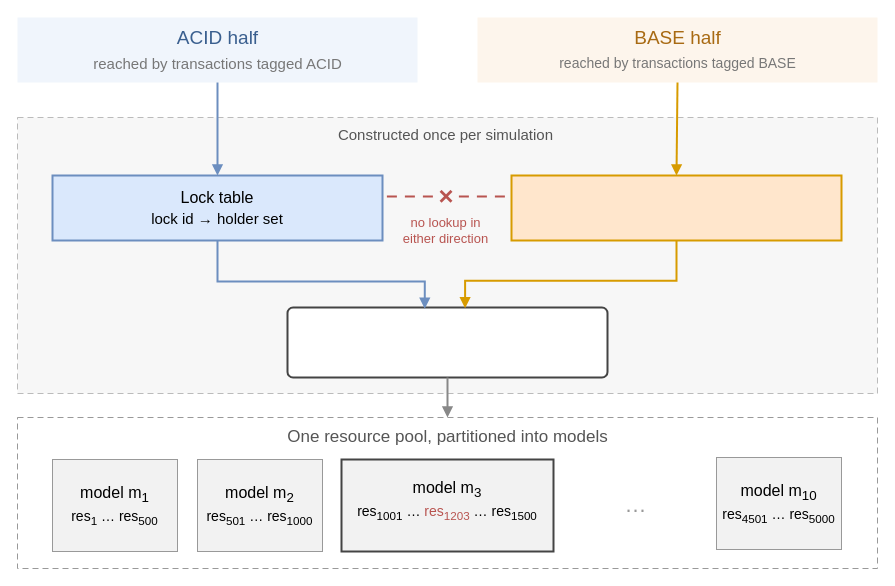
Image size: 895x586. Some labels were removed from this diagram. The shapes that lost their labels are listed below. From the top down, each one's box as (x1, y1, x2, y2) in pixels, then its label:
(510, 174, 842, 241): Dirty set (model, resource) → dirty since
(286, 306, 608, 378): res 1203 locked by the ACID and marked dirty by BASE
